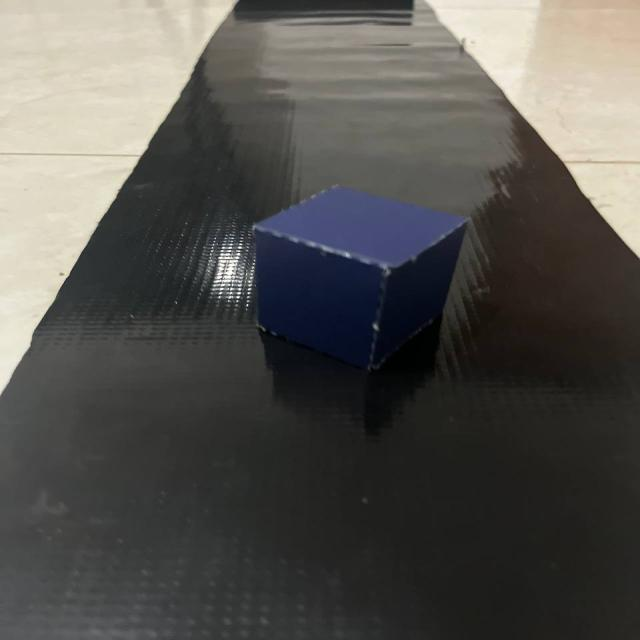Azul: (217, 178, 503, 393)
